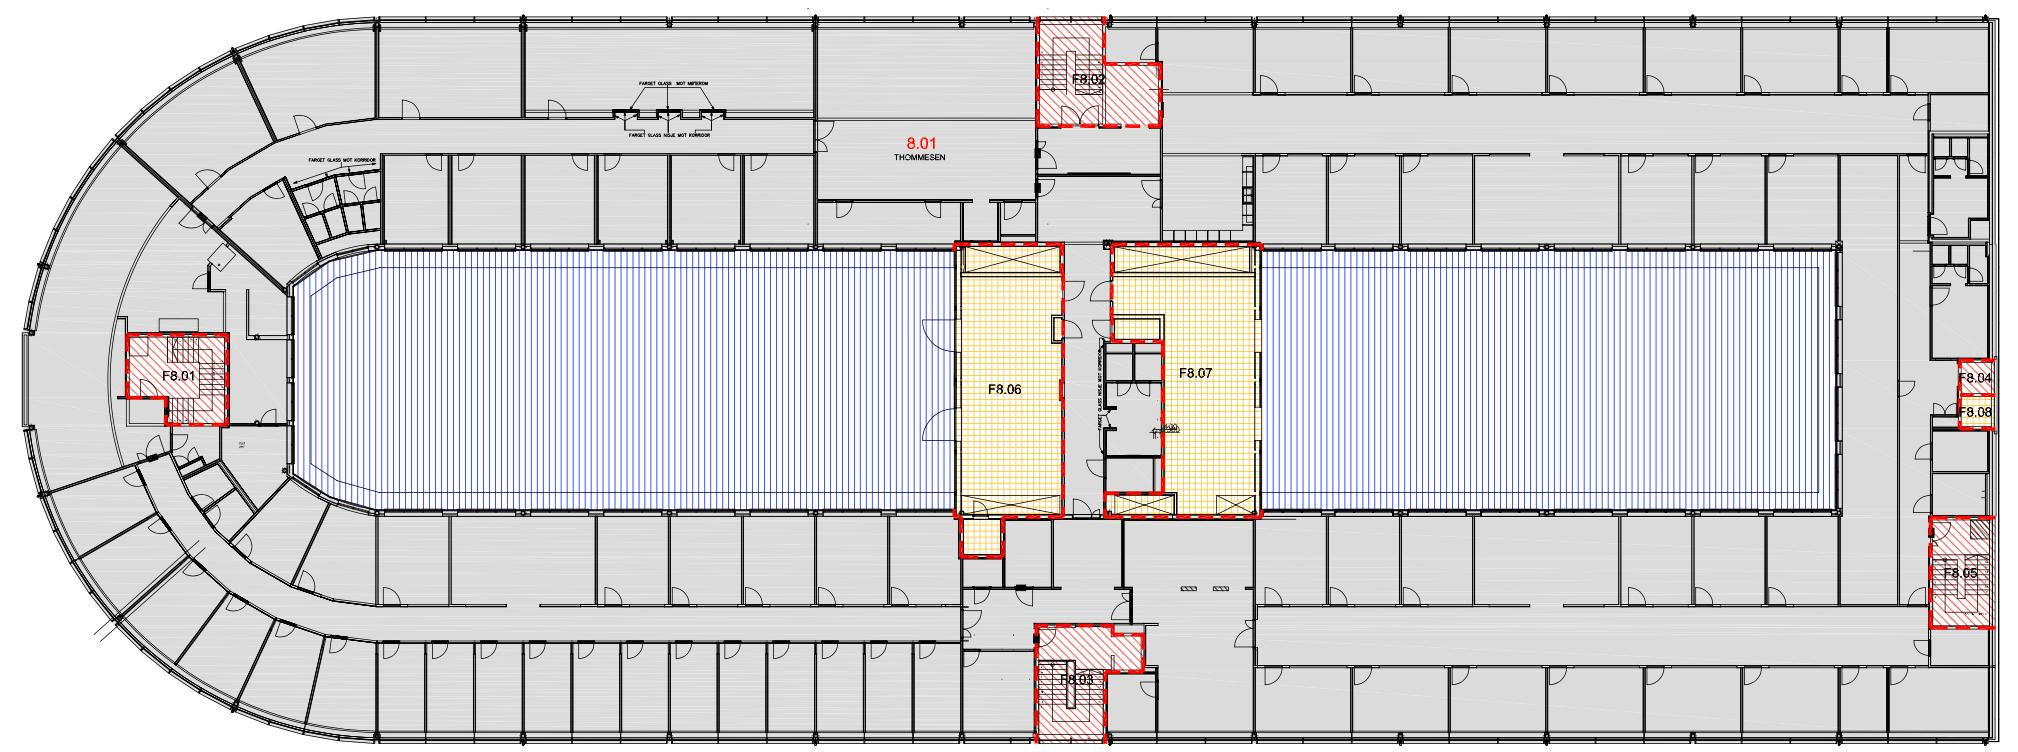room: (524, 27, 816, 118), (816, 27, 1036, 118), (378, 23, 523, 118), (1889, 666, 1991, 738), (1546, 667, 1645, 739), (1254, 667, 1353, 739), (1351, 667, 1449, 739), (449, 155, 524, 249), (1929, 242, 1988, 361), (1741, 667, 1838, 739), (1645, 667, 1741, 739), (1449, 667, 1546, 739), (596, 155, 671, 247), (523, 156, 597, 247), (669, 155, 743, 247), (743, 155, 816, 247), (1351, 26, 1449, 95), (1157, 24, 1254, 94), (1619, 155, 1692, 246), (1327, 514, 1400, 605), (669, 515, 743, 606), (596, 514, 669, 605), (1402, 514, 1474, 606), (1255, 26, 1353, 94), (1766, 155, 1839, 245), (1766, 515, 1839, 605), (1619, 515, 1692, 605), (377, 515, 450, 605), (1255, 155, 1327, 246), (1328, 155, 1400, 246), (889, 515, 961, 606), (743, 514, 815, 605), (1449, 27, 1547, 94), (1547, 27, 1645, 94), (1888, 30, 1990, 94), (1643, 28, 1743, 94), (1402, 155, 1474, 245), (1694, 155, 1766, 245), (1694, 515, 1766, 605), (1255, 515, 1327, 605), (816, 515, 888, 605), (816, 201, 963, 245), (1932, 135, 1991, 243), (1036, 126, 1161, 176), (1743, 30, 1839, 93), (384, 156, 448, 247), (570, 641, 620, 739), (815, 643, 865, 739), (474, 643, 524, 739), (864, 643, 912, 739), (767, 643, 816, 739), (718, 643, 767, 739), (669, 643, 718, 739), (620, 643, 669, 739), (425, 643, 474, 738), (377, 643, 426, 738), (914, 643, 961, 739), (524, 643, 571, 739), (1104, 382, 1163, 457), (1839, 666, 1888, 739), (1003, 519, 1051, 588), (1106, 672, 1157, 738), (1839, 30, 1888, 93), (1898, 155, 1932, 241), (1932, 473, 1991, 516), (1932, 430, 1988, 473), (1929, 94, 1990, 133), (1929, 628, 1991, 666), (1104, 457, 1162, 493), (1104, 24, 1157, 63), (999, 201, 1036, 236), (1134, 341, 1163, 382), (1104, 341, 1134, 381)
